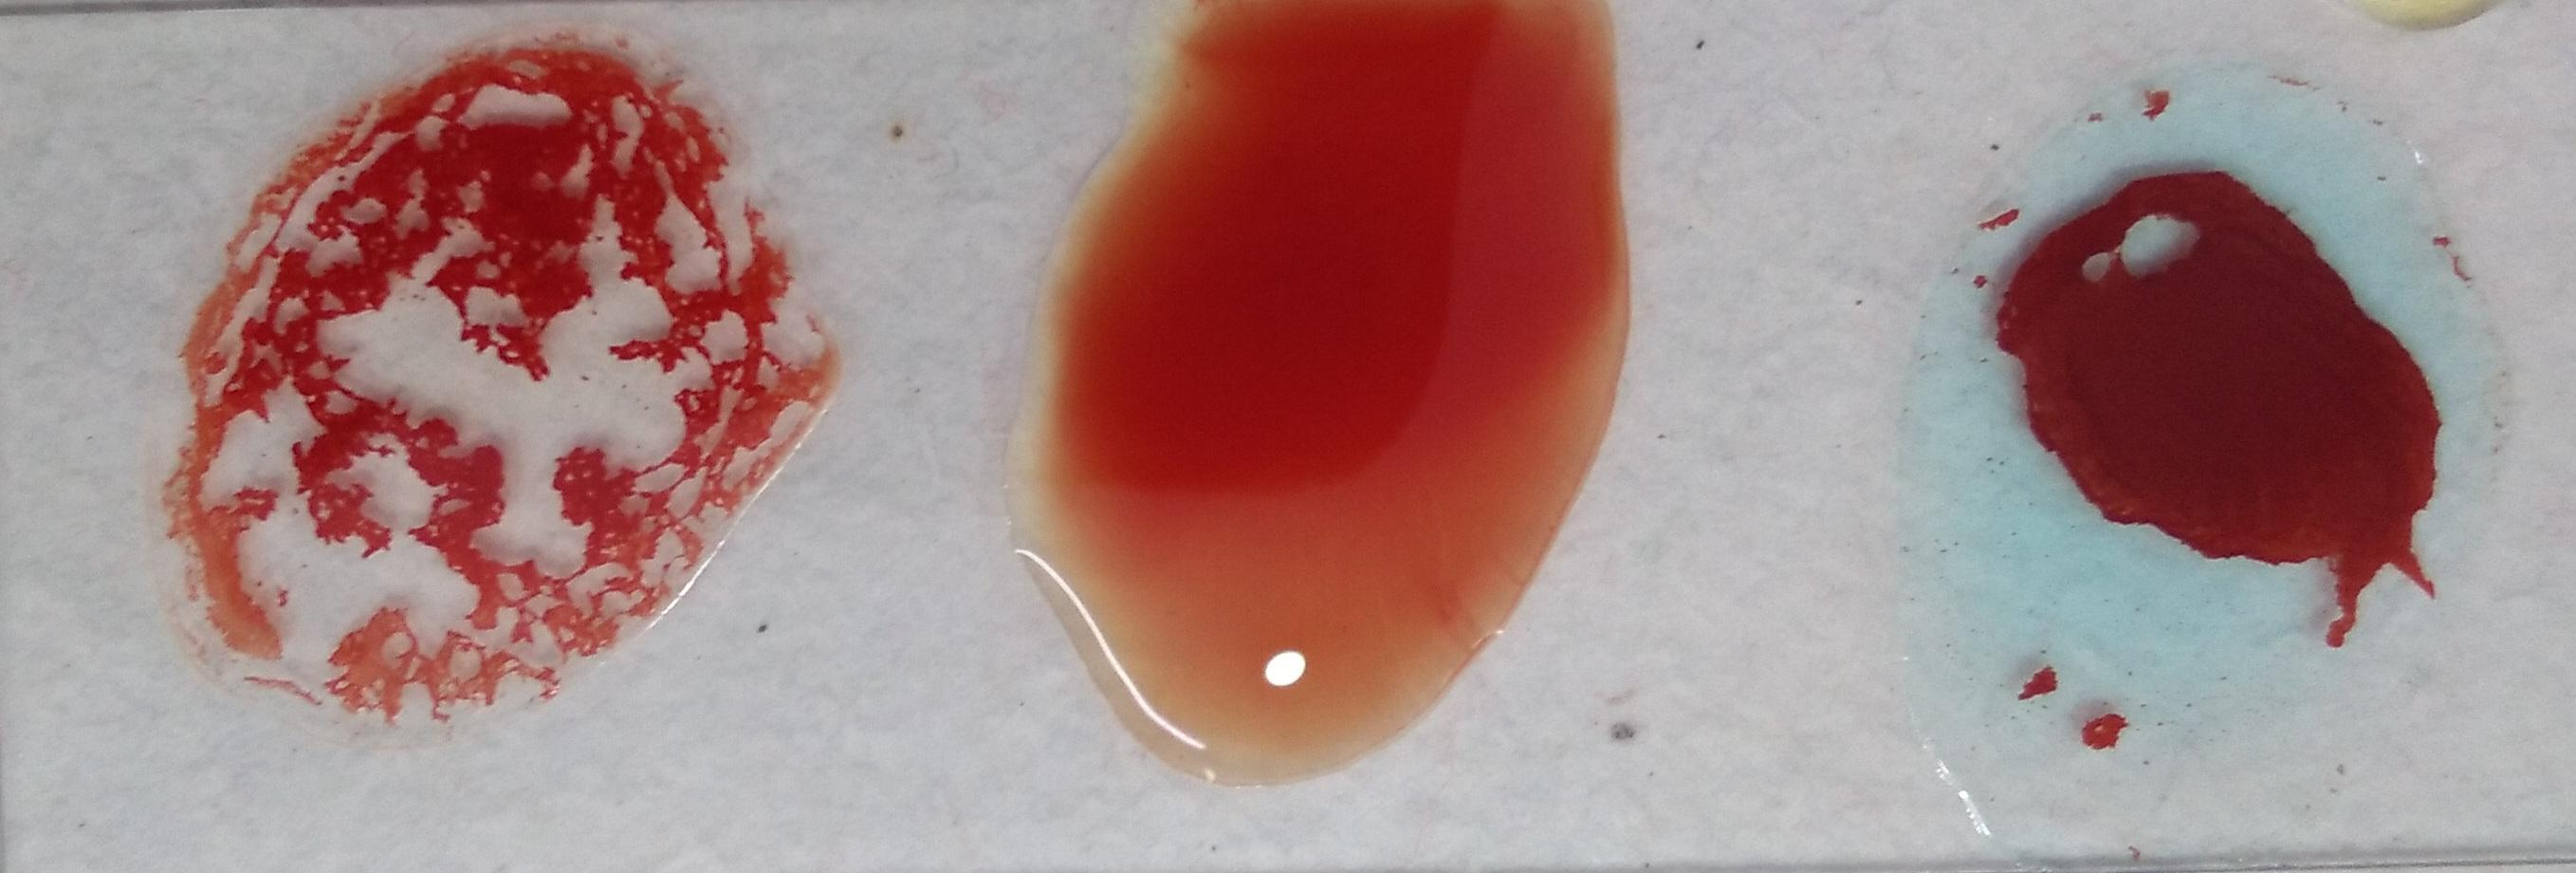A: (1920, 76, 2487, 817)
D: (158, 53, 802, 720)
